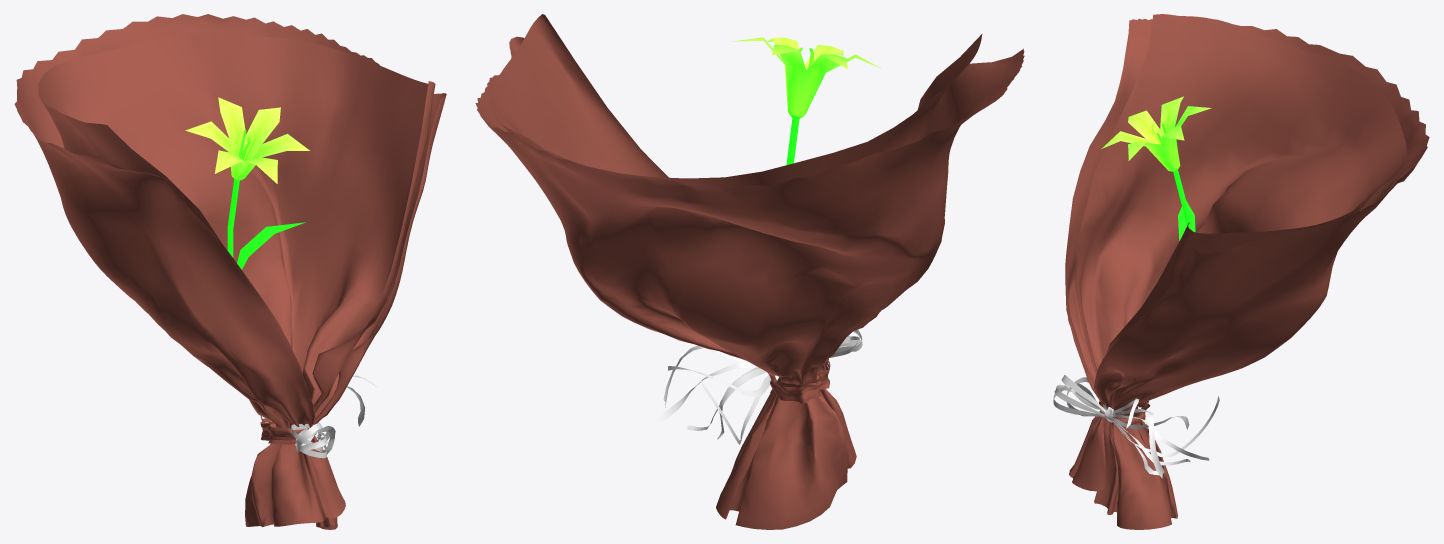
3 views of the same model, side by side, from view 1: azimuth 30°, elevation 25°; view 2: azimuth 150°, elevation 25°; view 3: azimuth 270°, elevation 25° (orthographic). The views are drawn at different scales.
Visible parts, largest first — view 1: inner, outer, SM_Lilly1, ribbon, parcel_knot; view 2: outer, inner, SM_Lilly1, ribbon, parcel_knot; view 3: inner, outer, SM_Lilly1, ribbon.
Part boxes in pixels (box(x1,y1,x2,y2)): inner: box(38, 32, 435, 428); outer: box(14, 14, 446, 529); SM_Lilly1: box(185, 97, 309, 269); ribbon: box(260, 375, 376, 458); parcel_knot: box(260, 418, 308, 444); outer: box(475, 36, 1024, 529); inner: box(488, 14, 982, 187); SM_Lilly1: box(732, 37, 881, 165); ribbon: box(655, 329, 862, 444); parcel_knot: box(767, 358, 830, 403); inner: box(1074, 14, 1407, 376); outer: box(1065, 18, 1429, 529); SM_Lilly1: box(1101, 96, 1211, 240); ribbon: box(1053, 375, 1219, 478).
Bounding box in the file's own units: 1.81 × 1.9 × 1.55.
6 materials, 1 textured.
